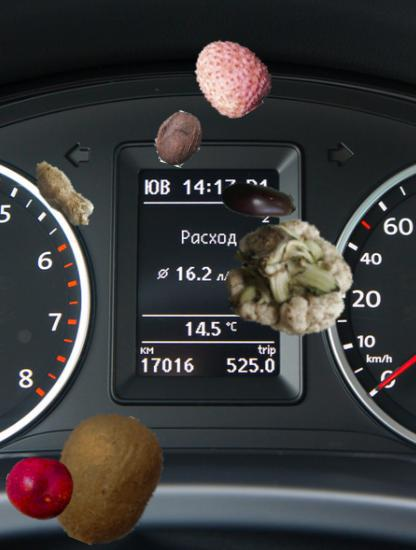Cauliflower: (222, 218, 353, 349)
Cocos: (151, 111, 207, 167)
Eggplant: (220, 162, 299, 241)
Ginger: (23, 155, 102, 234)
Kiwi: (38, 411, 173, 546)
Lychee: (191, 35, 273, 117)
Nectarine: (5, 453, 74, 522)
